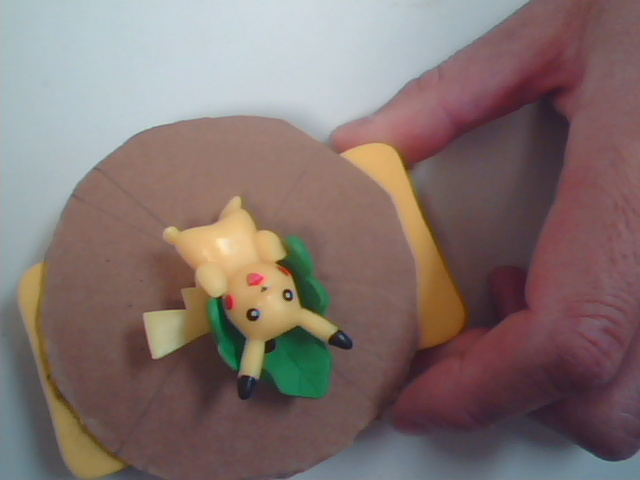pikachu: (134, 183, 387, 436)
